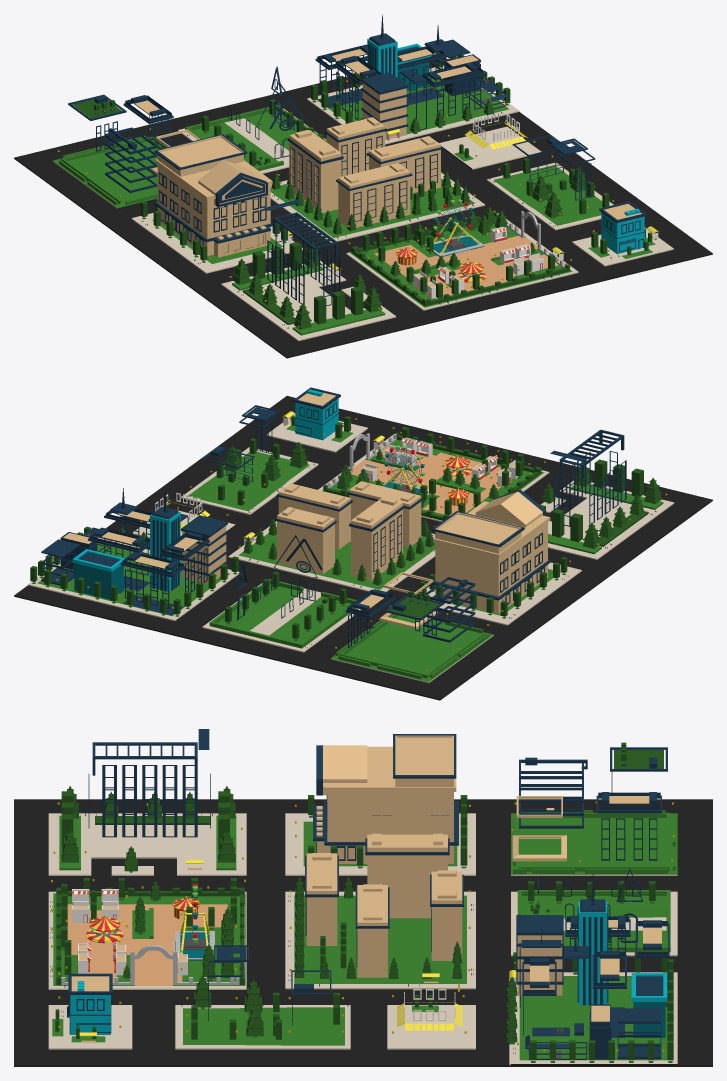
Rendered from Low_Poly_Simple_City.glb.
The picture shows the model from 3 angles, top to bottom: view 1: azimuth 30°, elevation 25°; view 2: azimuth 150°, elevation 25°; view 3: azimuth 270°, elevation 25°; orthographic projection. The views are drawn at different scales.
Parts seen in each view (by area): view 1: wh_plane_0, wh_gree.001_0, wh_white.001_0, Cube.282_keremi_0, Cube.282_white_0, Cube.025_keremi_0, Cube.028_keremi_0, Cube.023_white_0, wh_nokhody_0, Cube.018_keremi_0, Cube.026_keremi_0, Cube.030_gree_0 (+20 smaller); view 2: wh_plane_0, wh_gree.001_0, wh_white.001_0, Cube.282_keremi_0, Cube.028_keremi_0, Cube.026_keremi_0, Cube.023_white_0, wh_nokhody_0, Cube.018_keremi_0, Cube.282_white_0, Cube.025_keremi_0, Cube.012_white_0 (+22 smaller); view 3: wh_plane_0, wh_gree.001_0, wh_white.001_0, Cube.282_keremi_0, wh_nokhody_0, Cube.023_white_0, Cube.028_keremi_0, Cube.025_keremi_0, Cube.018_keremi_0, Cube.026_keremi_0, Cube.019_white_0, Cube.282_white_0 (+27 smaller).
Boxes of the visible parts, x1,y1,x2,y2 form: wh_plane_0: (14, 56, 712, 358); wh_gree.001_0: (53, 68, 655, 335); wh_white.001_0: (53, 65, 673, 341); Cube.282_keremi_0: (155, 135, 272, 257); Cube.282_white_0: (153, 134, 273, 253); Cube.025_keremi_0: (338, 163, 410, 227); Cube.028_keremi_0: (289, 130, 341, 212); Cube.023_white_0: (264, 200, 340, 305); wh_nokhody_0: (374, 235, 558, 298); Cube.018_keremi_0: (369, 136, 440, 194); Cube.026_keremi_0: (326, 117, 384, 176); Cube.030_gree_0: (351, 212, 569, 306); wh_plane_0: (14, 396, 712, 700); wh_gree.001_0: (37, 422, 663, 681); wh_white.001_0: (28, 413, 674, 683); Cube.282_keremi_0: (433, 491, 550, 613); Cube.028_keremi_0: (351, 497, 402, 580); Cube.026_keremi_0: (277, 507, 334, 574); Cube.023_white_0: (550, 429, 626, 526); wh_nokhody_0: (351, 444, 512, 515); Cube.018_keremi_0: (278, 483, 350, 549); Cube.282_white_0: (431, 489, 551, 604); Cube.025_keremi_0: (349, 481, 421, 547); Cube.012_white_0: (120, 552, 185, 615); wh_plane_0: (14, 799, 712, 1066); wh_gree.001_0: (52, 810, 677, 1060); wh_white.001_0: (48, 813, 677, 1065); Cube.282_keremi_0: (316, 735, 456, 863); wh_nokhody_0: (67, 904, 227, 985); Cube.023_white_0: (88, 729, 210, 837); Cube.028_keremi_0: (367, 833, 447, 918); Cube.025_keremi_0: (306, 853, 337, 945); Cube.018_keremi_0: (357, 884, 387, 977); Cube.026_keremi_0: (431, 870, 462, 960); Cube.019_white_0: (519, 757, 587, 828); Cube.282_white_0: (313, 734, 458, 860).
Size of the model in its own units: 202 by 47.95 by 224.
